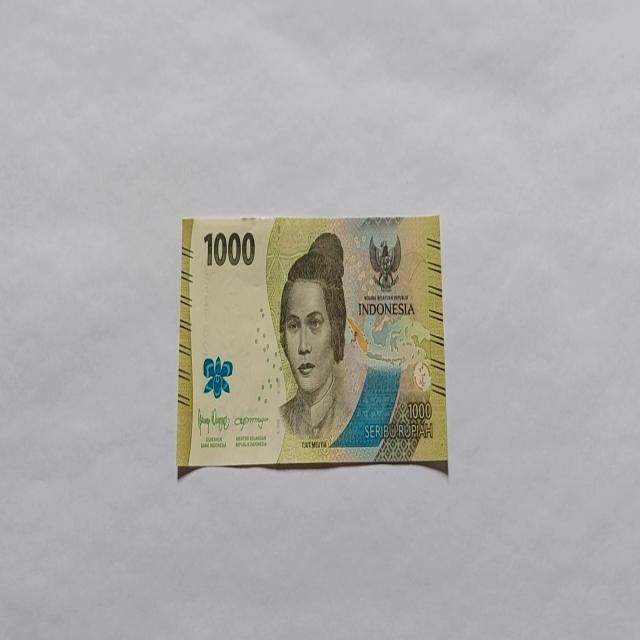seribu rupiah kertas: (176, 212, 448, 473)
